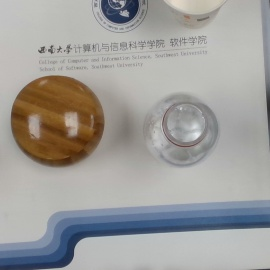bottle: (144, 93, 220, 168)
chess: (11, 76, 104, 167)
cup: (162, 1, 228, 27)
